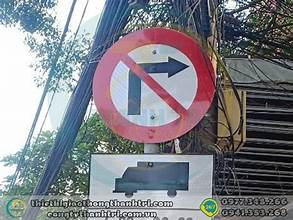No_turn_right: (92, 26, 217, 144)
